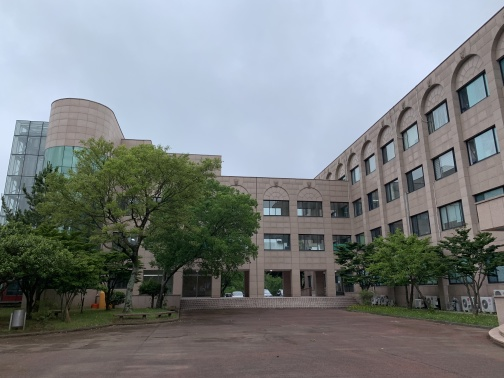Joint Experimental Labs: (9, 90, 113, 215)
Natural Science2: (331, 9, 504, 322)
